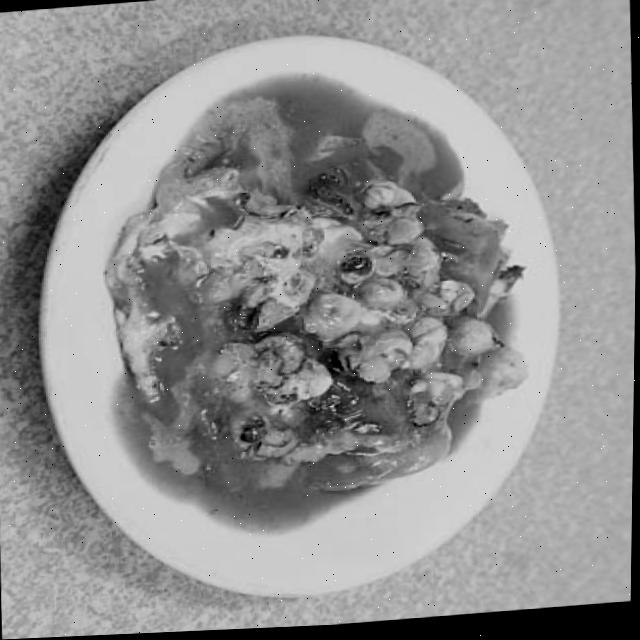熟制海鲜: (8, 4, 593, 631)
